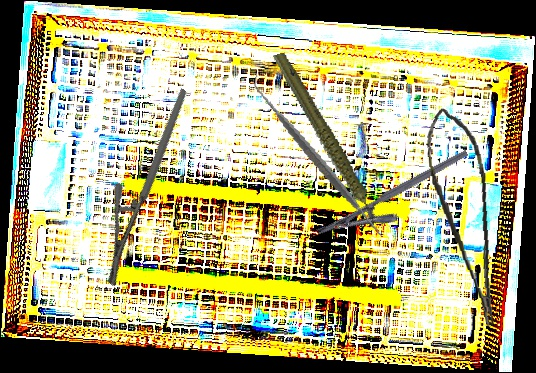Handpiece: (272, 40, 378, 241)
Micro Scissor: (420, 103, 503, 332)
Needle Holder: (54, 87, 242, 288), (315, 149, 480, 256)
Spatula Surgical: (230, 74, 405, 246)
